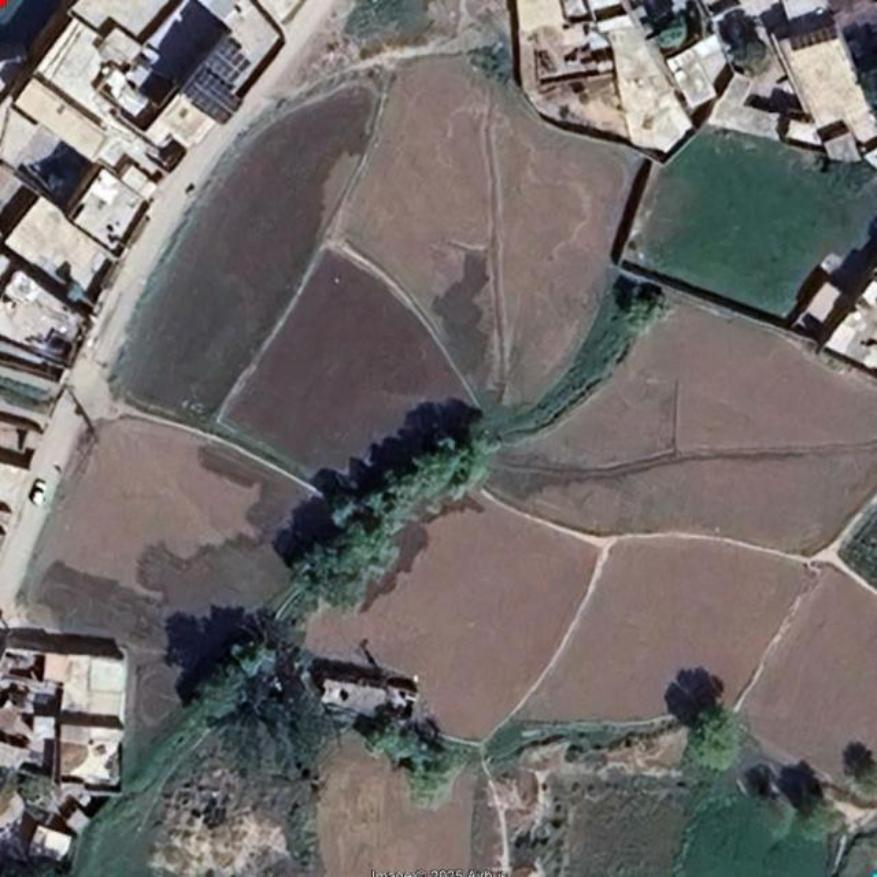Solarpanel: (181, 66, 242, 124), (204, 42, 250, 85)
